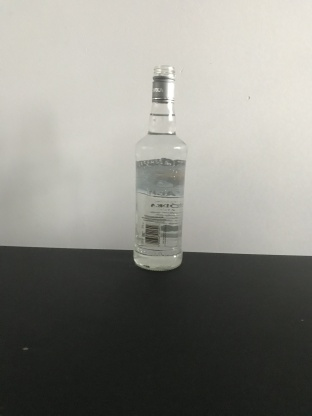nakretka: (150, 63, 177, 103)
